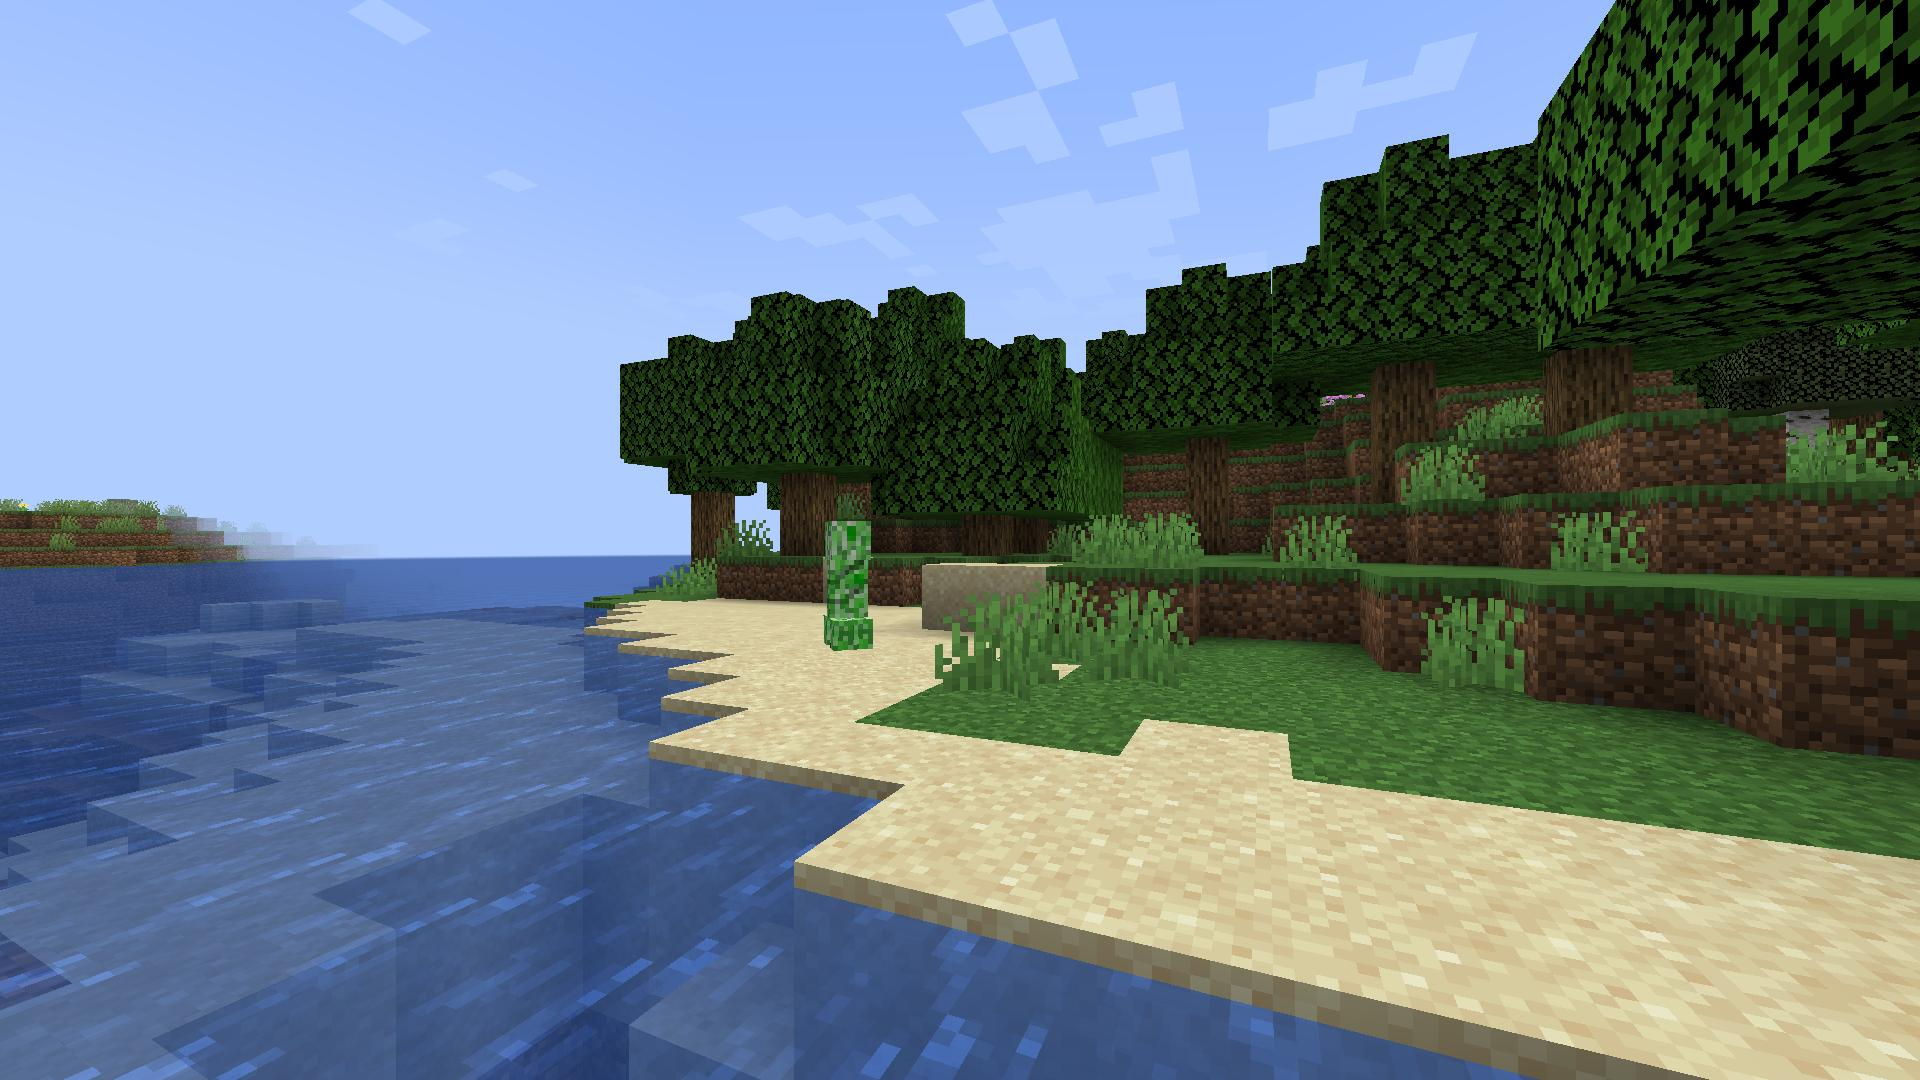creeper: (815, 510, 882, 663)
